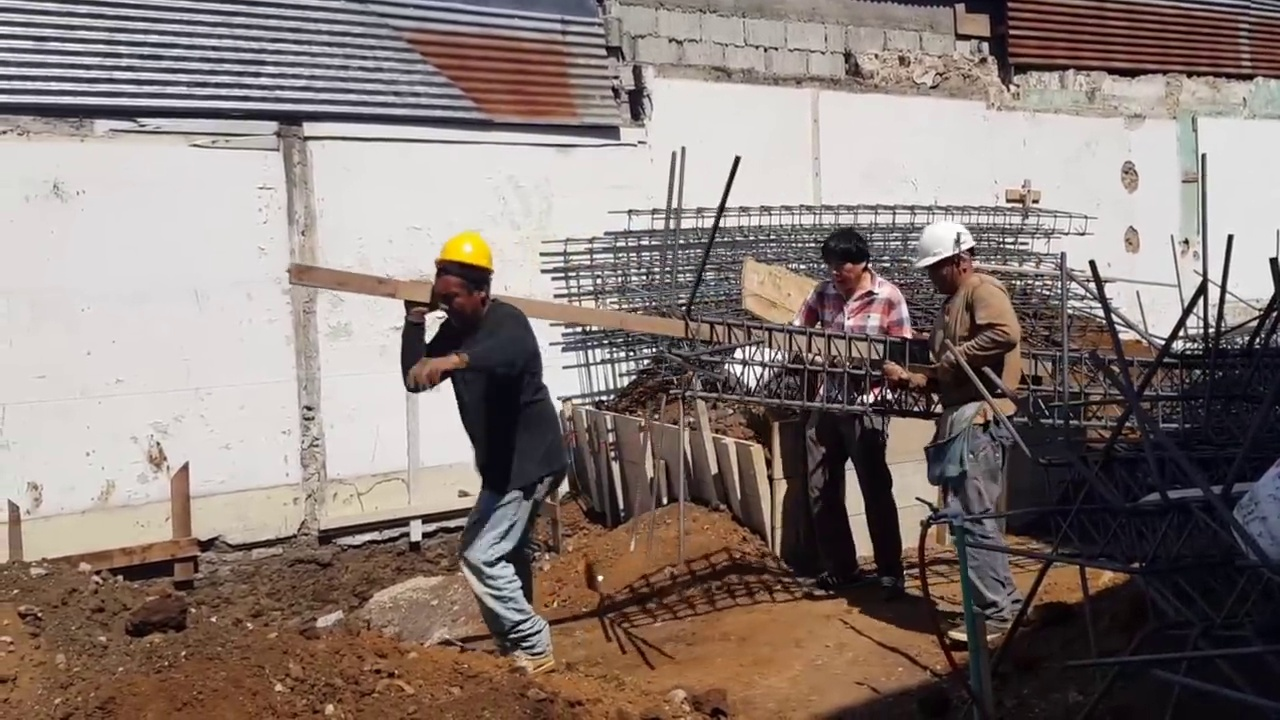helmet: (916, 218, 983, 270), (428, 234, 493, 277)
helmet-off: (826, 226, 875, 296)
helmet-on: (428, 228, 499, 335), (910, 219, 985, 299)
person: (401, 235, 569, 661), (901, 209, 1025, 656), (782, 232, 910, 605)
